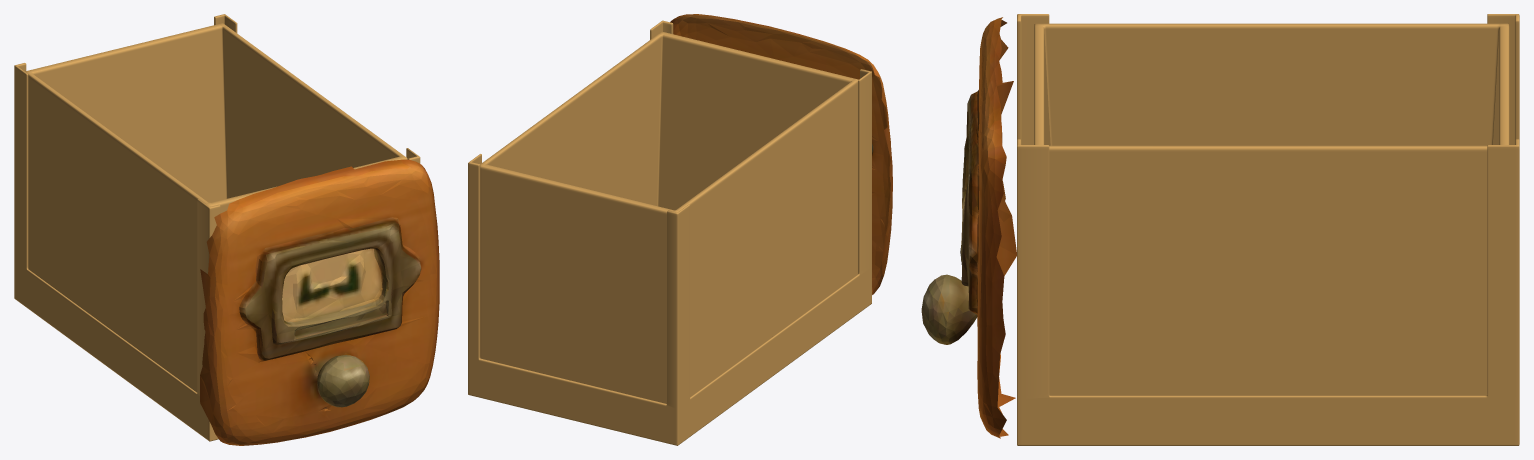
Rendered from drawer_bottom_left.glb.
The picture shows the model from 3 angles, left to right: view 1: azimuth 30°, elevation 25°; view 2: azimuth 150°, elevation 25°; view 3: azimuth 270°, elevation 25°; orthographic projection. The views are drawn at different scales.
Parts seen in each view (by area): view 1: prefab_drawer_body_4, source_front_cap_0; view 2: prefab_drawer_body_4, source_front_cap_0; view 3: prefab_drawer_body_4, source_front_cap_0.
Part boxes in pixels (box(x1,y1,x2,y2)): prefab_drawer_body_4: box(14, 14, 420, 441); source_front_cap_0: box(200, 159, 439, 445); prefab_drawer_body_4: box(468, 20, 871, 445); source_front_cap_0: box(670, 14, 892, 294); prefab_drawer_body_4: box(1017, 14, 1519, 445); source_front_cap_0: box(921, 17, 1016, 438).
Size of the model in its own units: 0.0965 by 0.1022 by 0.166.
Materials: 2 (1 with a texture image).
